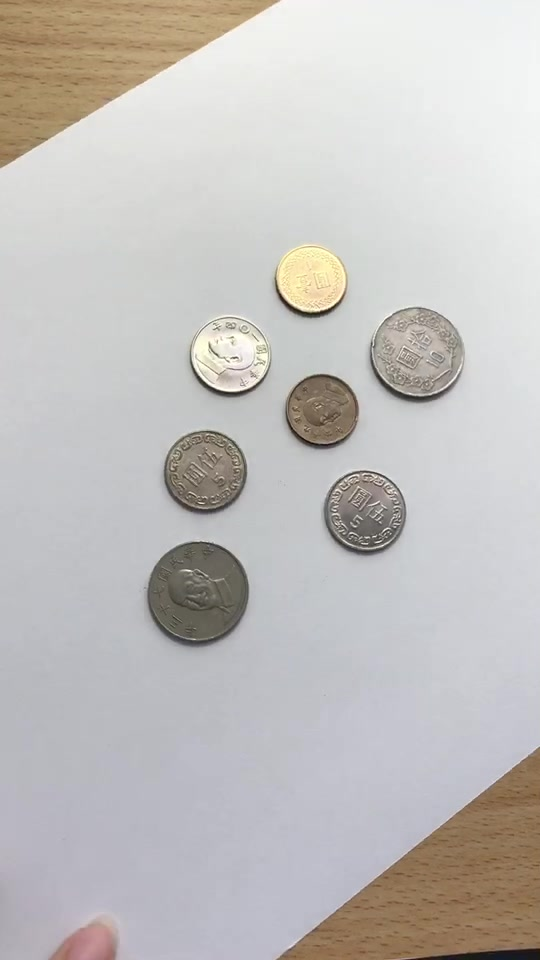1 dallar: (270, 237, 361, 328), (274, 366, 365, 457)
10 dallar: (130, 531, 256, 652), (367, 301, 471, 410)
5 dallar: (151, 423, 260, 528), (168, 305, 277, 410), (305, 464, 414, 569)
